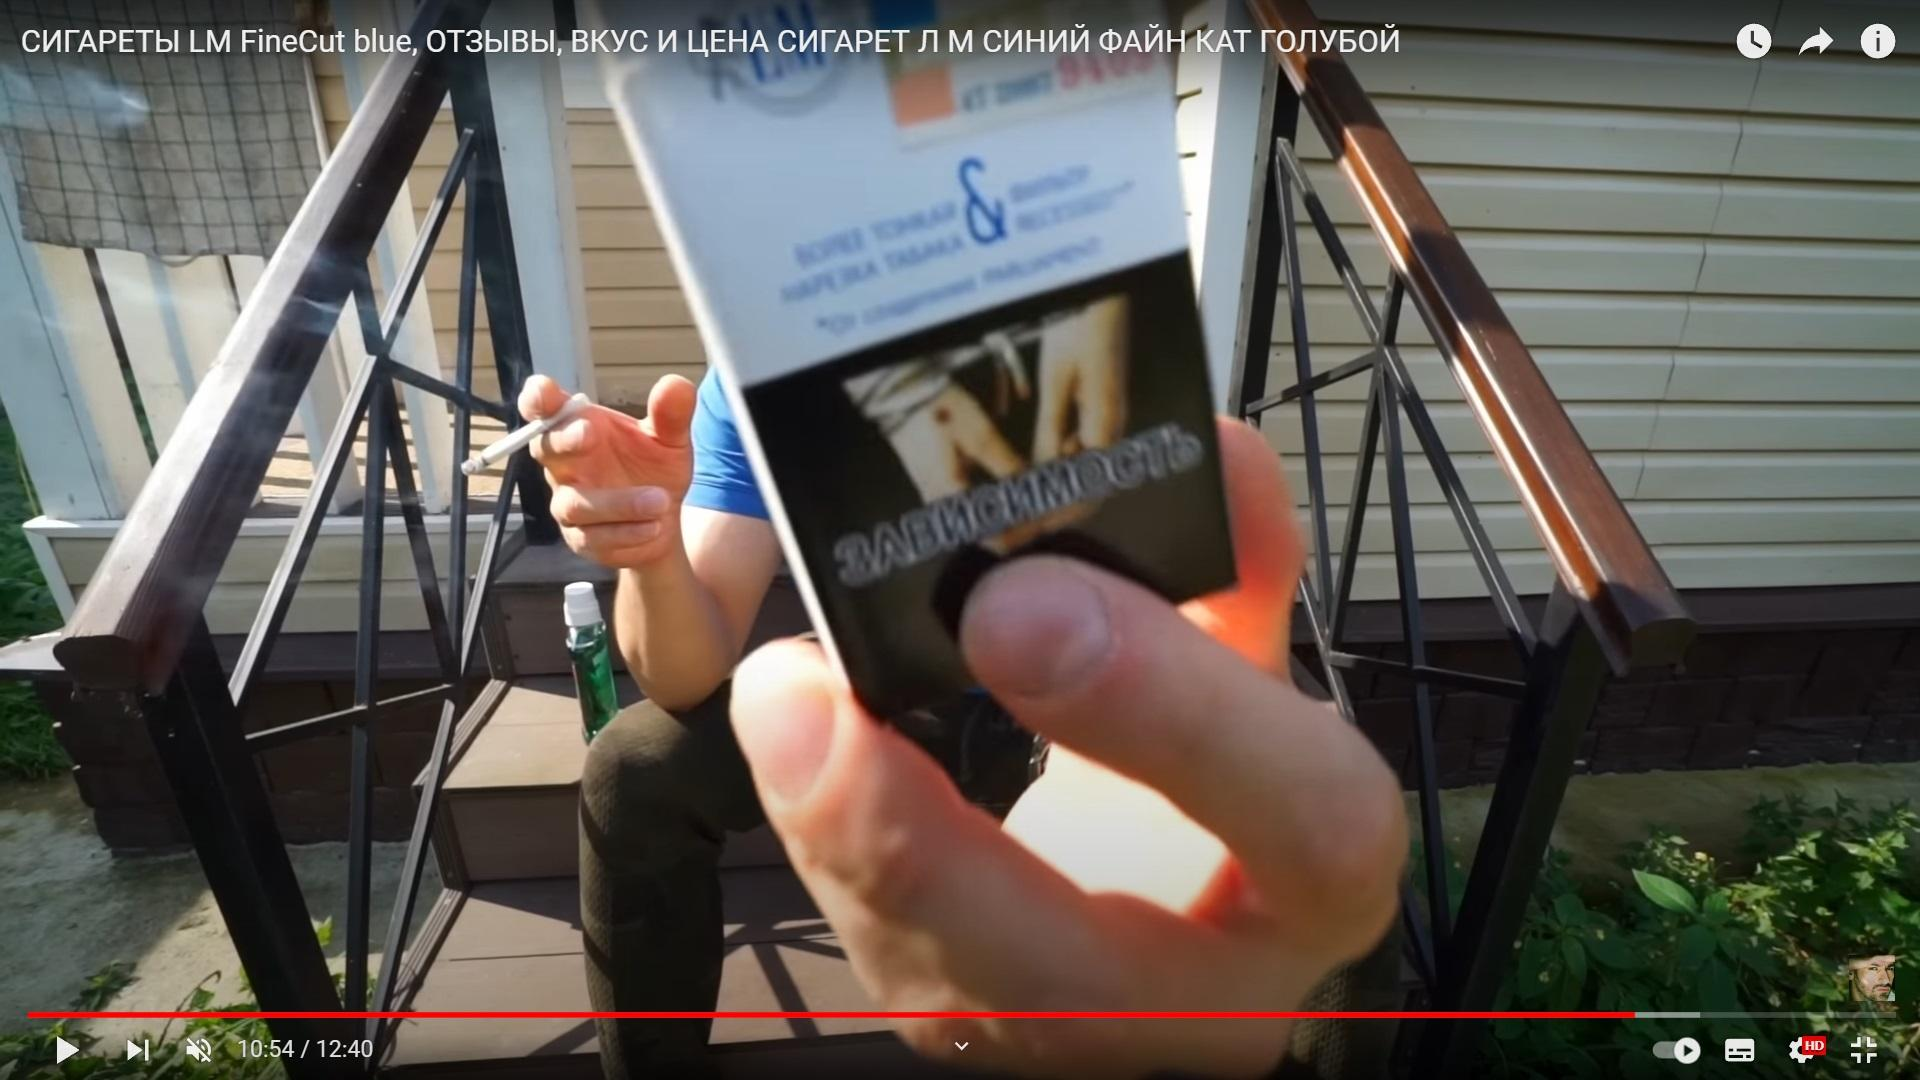cigarette: (462, 392, 591, 476)
